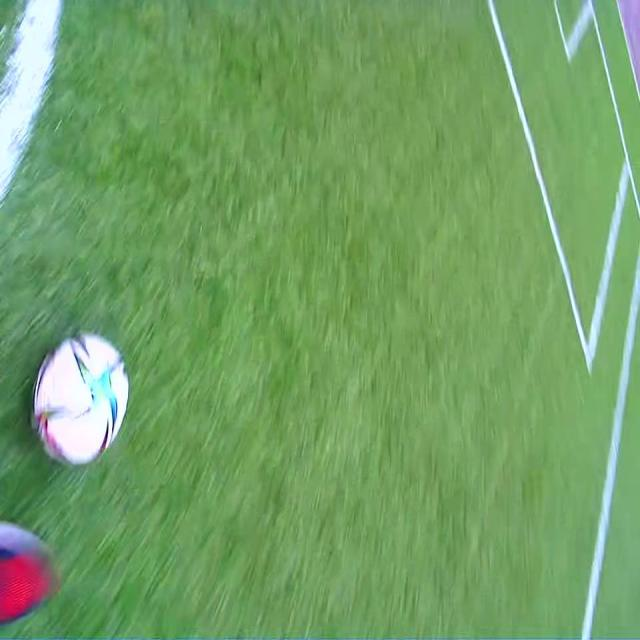ball: (31, 332, 130, 463)
